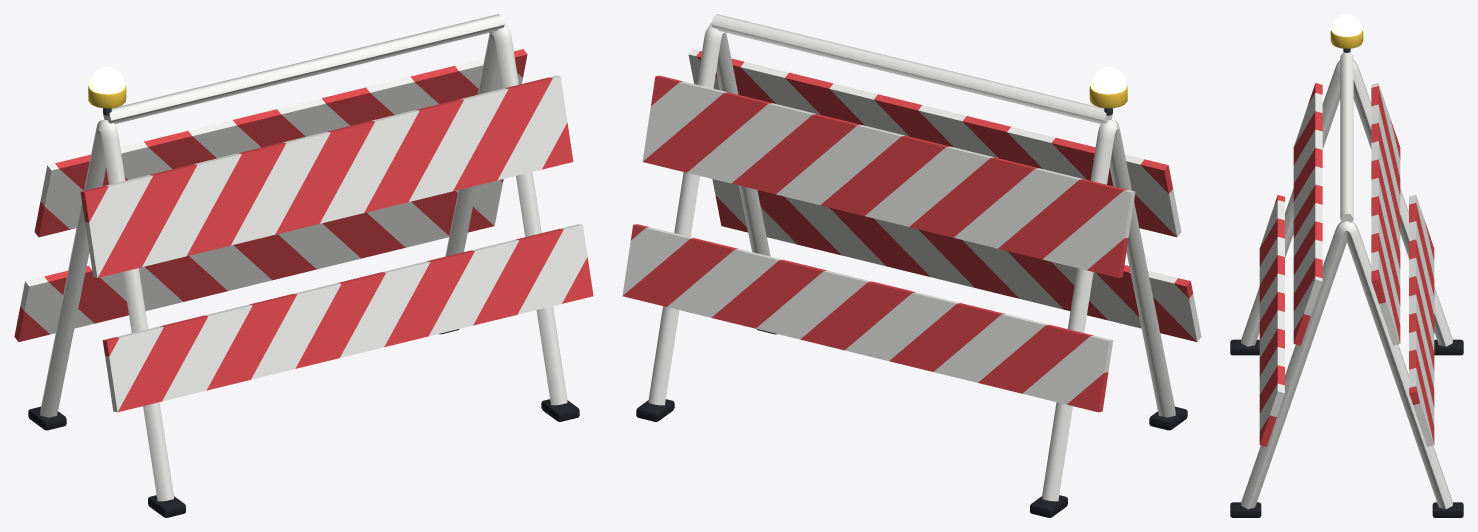
Rendered from cavalete_obra.glb.
The picture shows the model from 3 angles, left to right: view 1: azimuth 30°, elevation 25°; view 2: azimuth 150°, elevation 25°; view 3: azimuth 270°, elevation 25°; orthographic projection. The views are drawn at different scales.
Visible parts, largest first — view 1: cavalete_obra, lampada_pisca; view 2: cavalete_obra, lampada_pisca; view 3: cavalete_obra, lampada_pisca.
Boxes of the visible parts, <box> form: cavalete_obra: <box>14,14,593,517</box>; lampada_pisca: <box>89,67,125,94</box>; cavalete_obra: <box>622,14,1201,517</box>; lampada_pisca: <box>1090,67,1126,94</box>; cavalete_obra: <box>1230,30,1463,517</box>; lampada_pisca: <box>1331,14,1362,36</box>.
Bounding box in the file's own units: 1.5 × 1.2 × 0.7528.
2 materials, 1 textured.
